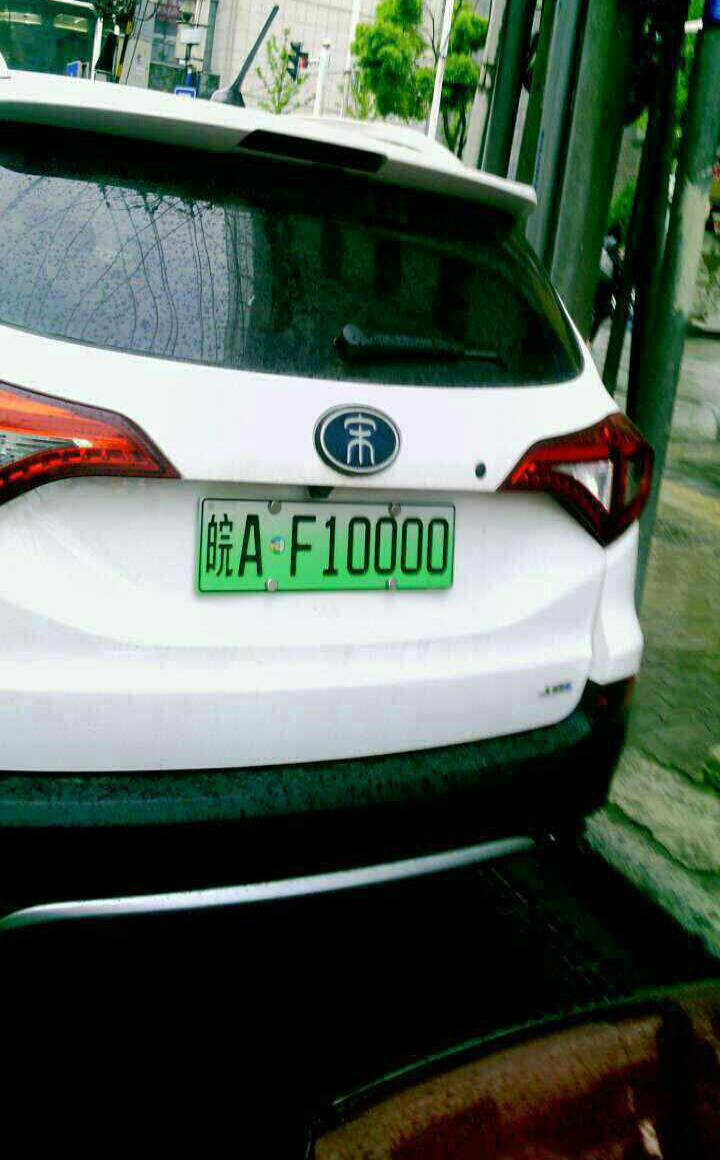car: (189, 500, 454, 590)
